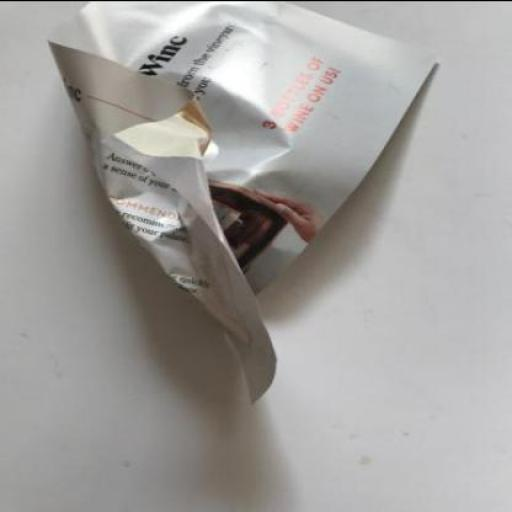paper: (47, 1, 443, 404)
